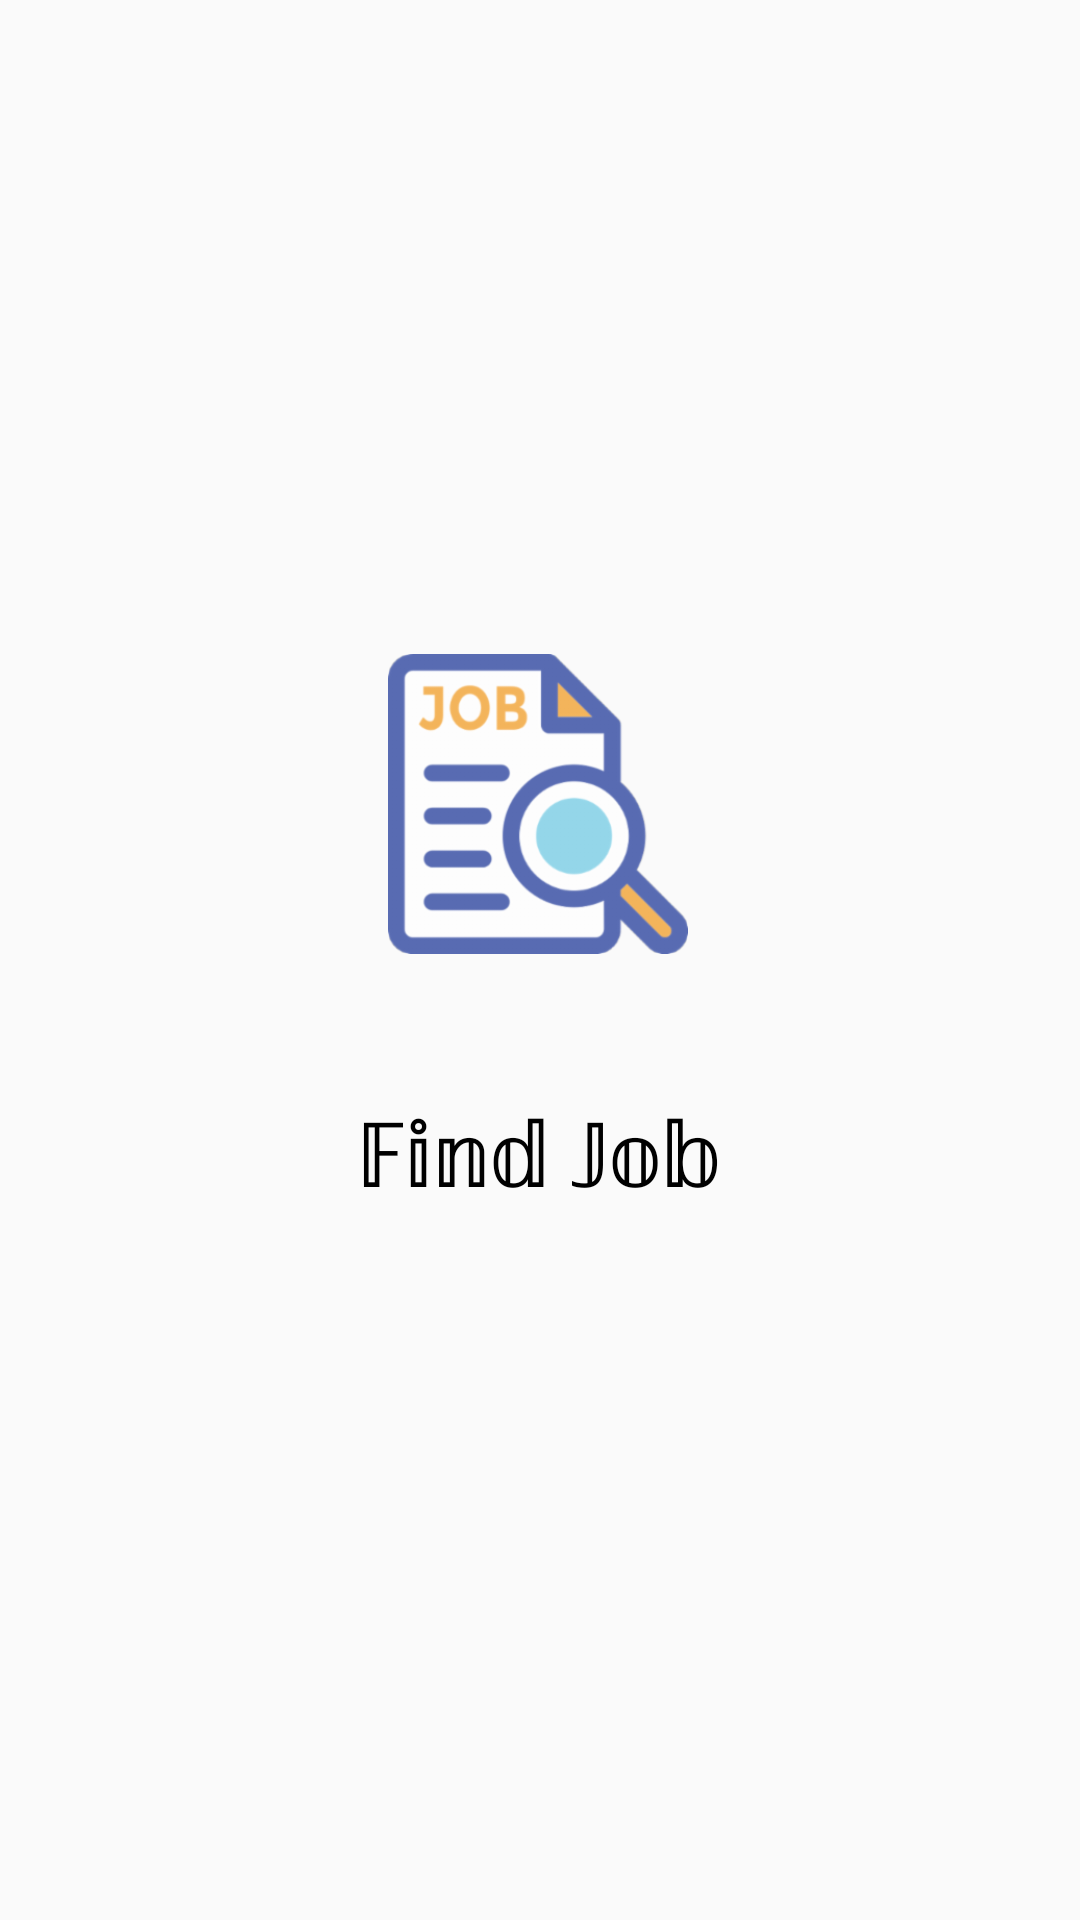

Where to tap for icons on this 1080px×1920px app screen, as (x=x, y=y):
find job main: (x=538, y=804)
